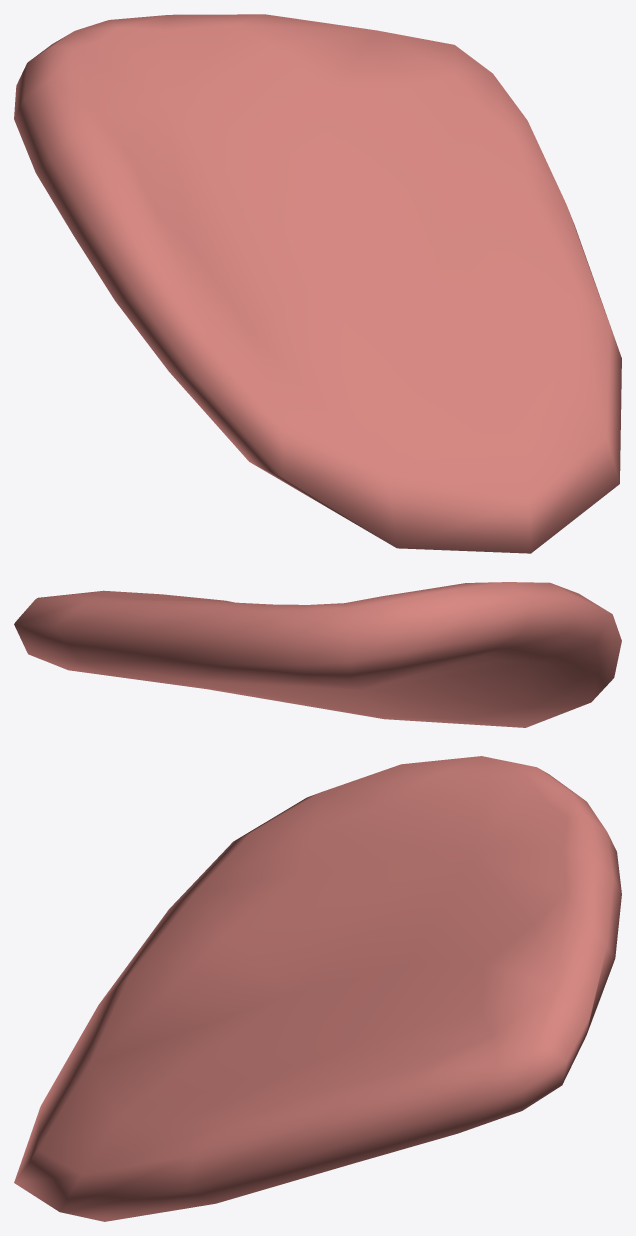
3 renders of one model, top to bottom at view 1: azimuth 30°, elevation 25°; view 2: azimuth 150°, elevation 25°; view 3: azimuth 270°, elevation 25°, orthographic. The views are drawn at different scales.
Visible parts, largest first — view 1: ZA_daaf2d6c63f42b42; view 2: ZA_daaf2d6c63f42b42; view 3: ZA_daaf2d6c63f42b42.
Boxes of the visible parts, bbox=[...] form: ZA_daaf2d6c63f42b42: bbox=[14, 14, 621, 553]; ZA_daaf2d6c63f42b42: bbox=[14, 582, 621, 727]; ZA_daaf2d6c63f42b42: bbox=[14, 756, 621, 1221].
Bounding box in the file's own units: 0.00325 × 0.00216 × 0.00356.
